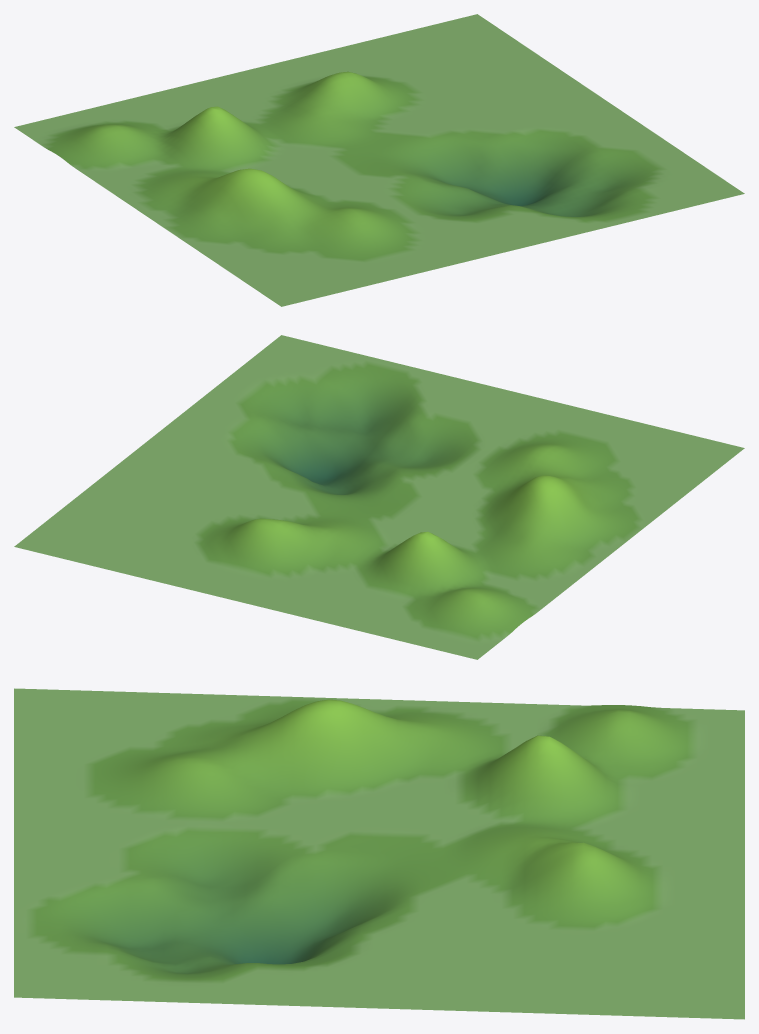
File: terrain1.glb
3 views of the same model, one above another, from view 1: azimuth 30°, elevation 25°; view 2: azimuth 150°, elevation 25°; view 3: azimuth 270°, elevation 25° (orthographic). The views are drawn at different scales.
Bounding box in the file's own units: 19.69 × 3.05 × 19.68.
